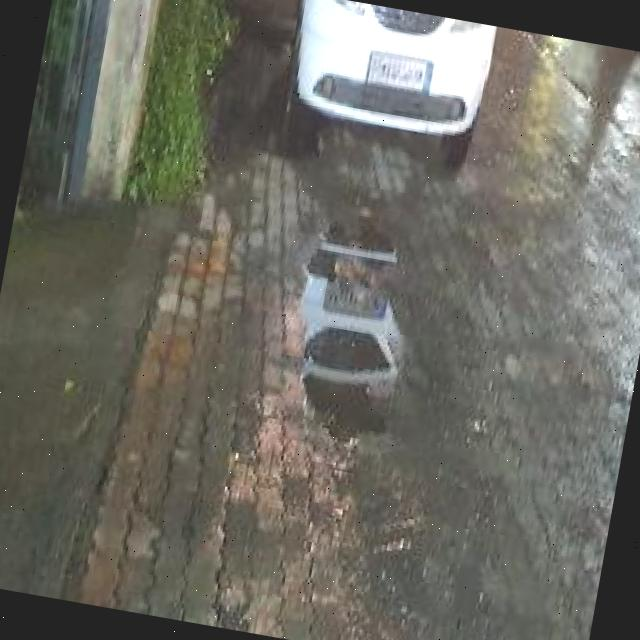stagnation: (266, 182, 464, 484)
